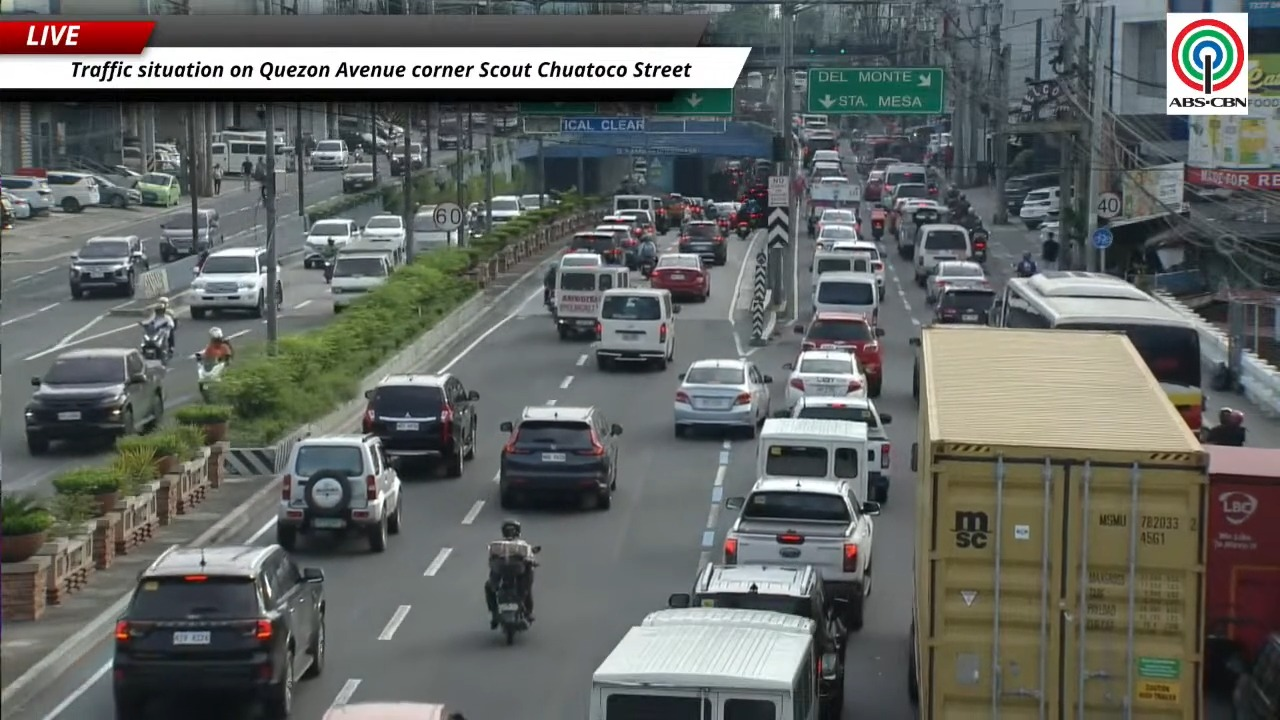bus: (990, 271, 1204, 430), (210, 129, 266, 174)
car: (111, 545, 326, 719), (668, 564, 847, 719), (276, 434, 402, 552), (24, 348, 164, 454), (498, 406, 622, 509), (362, 373, 479, 477), (790, 397, 891, 503), (673, 358, 772, 436), (795, 313, 884, 397), (188, 247, 267, 319), (70, 235, 148, 298), (784, 350, 867, 407), (329, 241, 394, 313), (159, 208, 224, 261), (829, 240, 885, 301), (649, 253, 710, 301), (303, 218, 361, 268), (926, 261, 989, 303), (321, 701, 464, 719), (412, 205, 464, 253), (933, 285, 995, 323), (888, 184, 935, 234), (45, 171, 100, 212), (0, 175, 54, 216), (677, 220, 726, 265), (361, 214, 406, 262), (880, 163, 927, 208), (594, 224, 637, 269), (569, 230, 624, 264), (1019, 186, 1059, 229), (93, 175, 141, 208), (135, 172, 180, 207), (887, 182, 932, 209), (815, 222, 858, 250), (309, 139, 349, 169), (814, 209, 859, 234), (616, 209, 656, 237), (488, 195, 523, 227), (390, 142, 423, 175), (343, 162, 377, 193), (0, 192, 31, 219), (909, 337, 921, 406), (558, 251, 604, 269), (863, 170, 884, 203), (811, 161, 844, 180), (520, 193, 551, 210), (0, 194, 15, 229)
motorcycle: (193, 352, 227, 402), (139, 321, 171, 363), (972, 229, 988, 263), (871, 209, 885, 241), (1015, 262, 1037, 278), (639, 259, 654, 278), (323, 259, 334, 283), (543, 287, 554, 308), (736, 222, 749, 238), (533, 546, 540, 553)
truck: (907, 327, 1208, 719), (723, 477, 880, 630), (1205, 445, 1279, 696)
